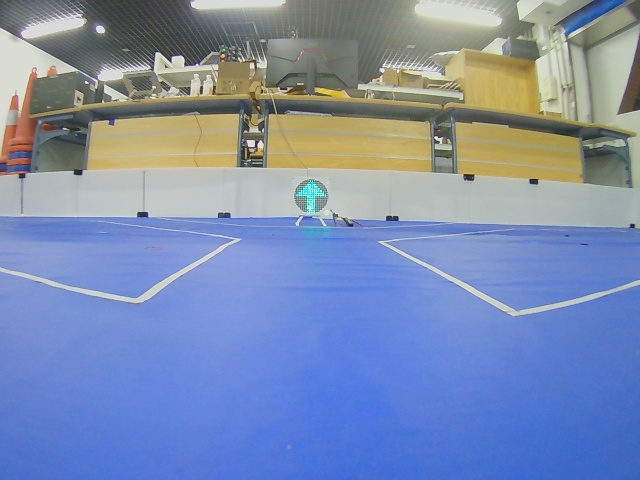straight_green: (294, 179, 329, 214)
